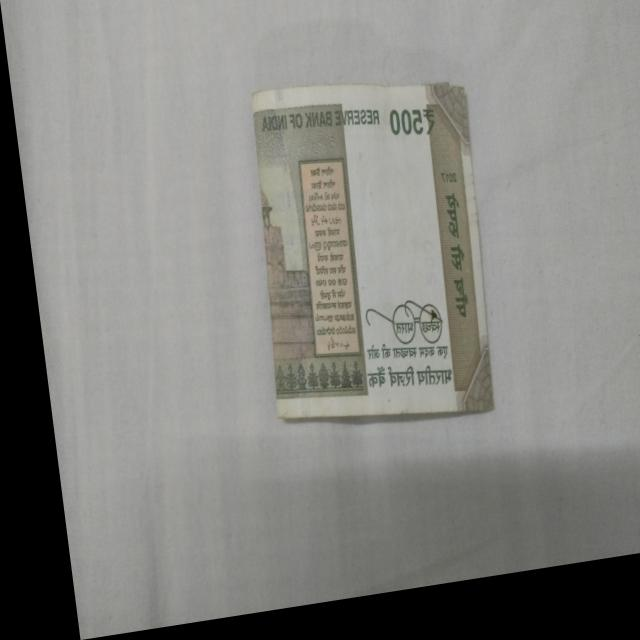Currency: (230, 71, 502, 472)
